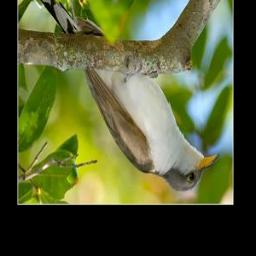Cuckoo: (17, 0, 224, 196)
